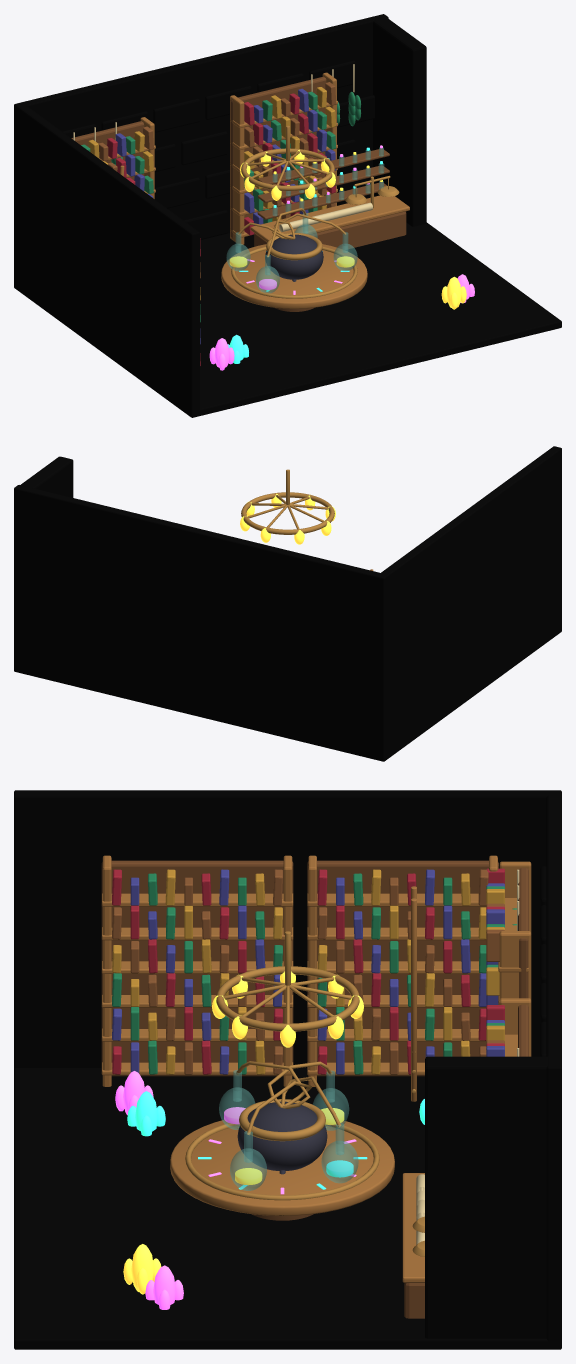
File: fantasy_alchemist_workshop_library.glb
3 views of the same model, one above another, from view 1: azimuth 30°, elevation 25°; view 2: azimuth 150°, elevation 25°; view 3: azimuth 270°, elevation 25° (orthographic). The views are drawn at different scales.
Visible parts, largest first — view 1: fantasy_alchemist_workshop_library_Batch_08_Alchemist_StoneD, Workshop_Floor, fantasy_alchemist_workshop_library_Batch_10_Alchemist_WarmWo, fantasy_alchemist_workshop_library_Batch_05_Alchemist_DarkWo, fantasy_alchemist_workshop_library_Batch_01_Alchemist_AgedBr, fantasy_alchemist_workshop_library_Batch_04_Alchemist_Bottle, fantasy_alchemist_workshop_library_Batch_12_Book_Forest, fantasy_alchemist_workshop_library_Batch_13_Book_Indigo, Ingredient_Workbench, fantasy_alchemist_workshop_library_Batch_11_Book_Claret, fantasy_alchemist_workshop_library_Batch_15_Book_Ochre, fantasy_alchemist_workshop_library_Batch_14_Book_Leather (+9 smaller); view 2: fantasy_alchemist_workshop_library_Batch_08_Alchemist_StoneD, Chandelier_Ring, fantasy_alchemist_workshop_library_Batch_01_Alchemist_AgedBr, fantasy_alchemist_workshop_library_Batch_02_Alchemist_AmberG, Workshop_Floor; view 3: fantasy_alchemist_workshop_library_Batch_08_Alchemist_StoneD, Workshop_Floor, fantasy_alchemist_workshop_library_Batch_10_Alchemist_WarmWo, fantasy_alchemist_workshop_library_Batch_05_Alchemist_DarkWo, fantasy_alchemist_workshop_library_Batch_11_Book_Claret, fantasy_alchemist_workshop_library_Batch_15_Book_Ochre, fantasy_alchemist_workshop_library_Batch_13_Book_Indigo, fantasy_alchemist_workshop_library_Batch_01_Alchemist_AgedBr, fantasy_alchemist_workshop_library_Batch_14_Book_Leather, fantasy_alchemist_workshop_library_Batch_12_Book_Forest, fantasy_alchemist_workshop_library_Batch_04_Alchemist_Bottle, Cauldron_Bowl (+7 smaller).
Boxes of the visible parts, x1,y1,x2,y2 form: fantasy_alchemist_workshop_library_Batch_08_Alchemist_StoneD: [14, 14, 426, 417]; Workshop_Floor: [18, 222, 561, 417]; fantasy_alchemist_workshop_library_Batch_10_Alchemist_WarmWo: [99, 72, 409, 308]; fantasy_alchemist_workshop_library_Batch_05_Alchemist_DarkWo: [230, 76, 389, 238]; fantasy_alchemist_workshop_library_Batch_01_Alchemist_AgedBr: [231, 125, 399, 298]; fantasy_alchemist_workshop_library_Batch_04_Alchemist_Bottle: [226, 147, 384, 274]; fantasy_alchemist_workshop_library_Batch_12_Book_Forest: [81, 91, 361, 322]; fantasy_alchemist_workshop_library_Batch_13_Book_Indigo: [115, 88, 336, 344]; Ingredient_Workbench: [254, 211, 406, 249]; fantasy_alchemist_workshop_library_Batch_11_Book_Claret: [107, 93, 335, 365]; fantasy_alchemist_workshop_library_Batch_15_Book_Ochre: [88, 87, 335, 300]; fantasy_alchemist_workshop_library_Batch_14_Book_Leather: [98, 82, 336, 278]; fantasy_alchemist_workshop_library_Batch_08_Alchemist_StoneD: [14, 446, 561, 761]; Chandelier_Ring: [241, 492, 334, 534]; fantasy_alchemist_workshop_library_Batch_01_Alchemist_AgedBr: [247, 469, 328, 528]; fantasy_alchemist_workshop_library_Batch_02_Alchemist_AmberG: [240, 493, 335, 544]; Workshop_Floor: [14, 627, 561, 760]; fantasy_alchemist_workshop_library_Batch_08_Alchemist_StoneD: [14, 790, 561, 1349]; Workshop_Floor: [14, 1068, 561, 1349]; fantasy_alchemist_workshop_library_Batch_10_Alchemist_WarmWo: [101, 855, 531, 1282]; fantasy_alchemist_workshop_library_Batch_05_Alchemist_DarkWo: [101, 860, 528, 1076]; fantasy_alchemist_workshop_library_Batch_11_Book_Claret: [112, 868, 504, 1074]; fantasy_alchemist_workshop_library_Batch_15_Book_Ochre: [112, 869, 504, 1074]; fantasy_alchemist_workshop_library_Batch_13_Book_Indigo: [112, 869, 504, 1074]; fantasy_alchemist_workshop_library_Batch_01_Alchemist_AgedBr: [185, 931, 424, 1256]; fantasy_alchemist_workshop_library_Batch_14_Book_Leather: [112, 869, 504, 1074]; fantasy_alchemist_workshop_library_Batch_12_Book_Forest: [112, 873, 516, 1074]; fantasy_alchemist_workshop_library_Batch_04_Alchemist_Bottle: [230, 1069, 358, 1190]; Cauldron_Bowl: [237, 1101, 327, 1170].
Bounding box in the file's own units: 12 × 5.81 × 10.
15 materials, 1 textured.
